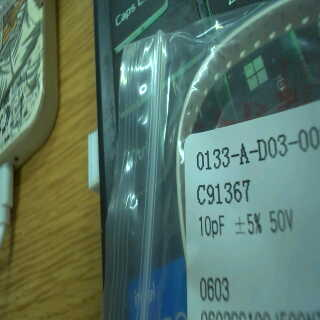10pF: (195, 211, 227, 239)
